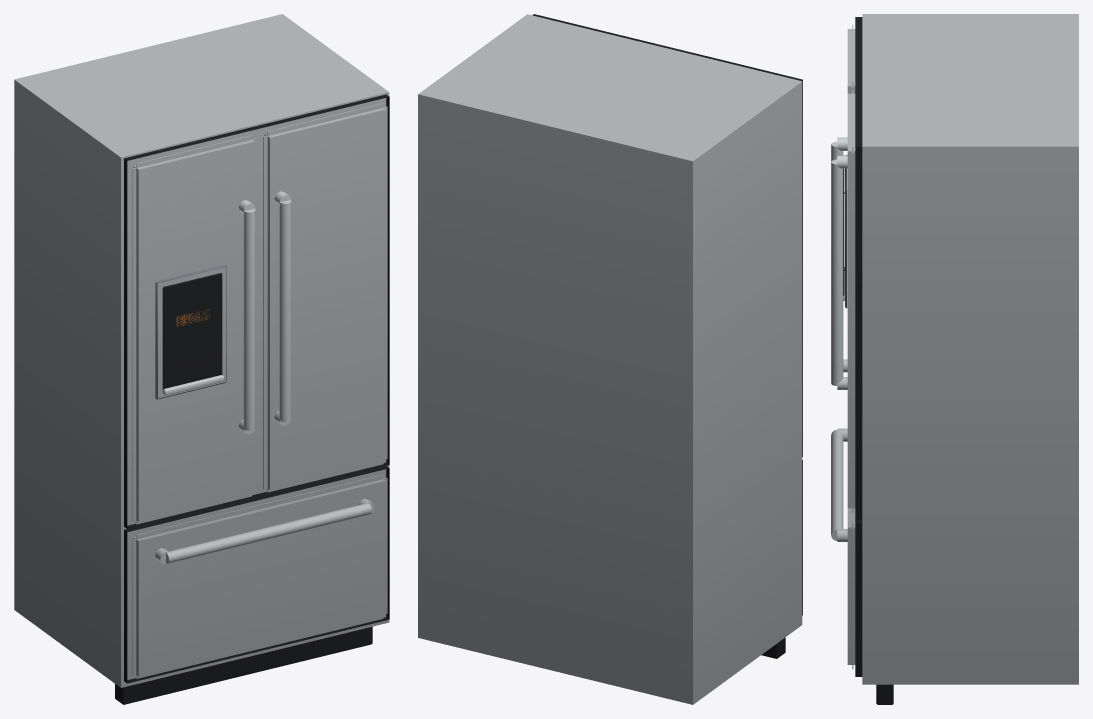
Rendered from Fridge_FrenchDoor_01.glb.
3 renders of one model, left to right at view 1: azimuth 30°, elevation 25°; view 2: azimuth 150°, elevation 25°; view 3: azimuth 270°, elevation 25°, orthographic. The views are drawn at different scales.
Parts seen in each view (by area): view 1: SM_Fridge_FrenchDoor_01; view 2: SM_Fridge_FrenchDoor_01; view 3: SM_Fridge_FrenchDoor_01.
Boxes of the visible parts, bbox=[...] form: SM_Fridge_FrenchDoor_01: bbox=[14, 14, 389, 704]; SM_Fridge_FrenchDoor_01: bbox=[418, 14, 802, 704]; SM_Fridge_FrenchDoor_01: bbox=[831, 14, 1078, 704].
Bounding box in the file's own units: 0.9 × 1.78 × 0.7095.
Materials: 1 (1 with a texture image).
